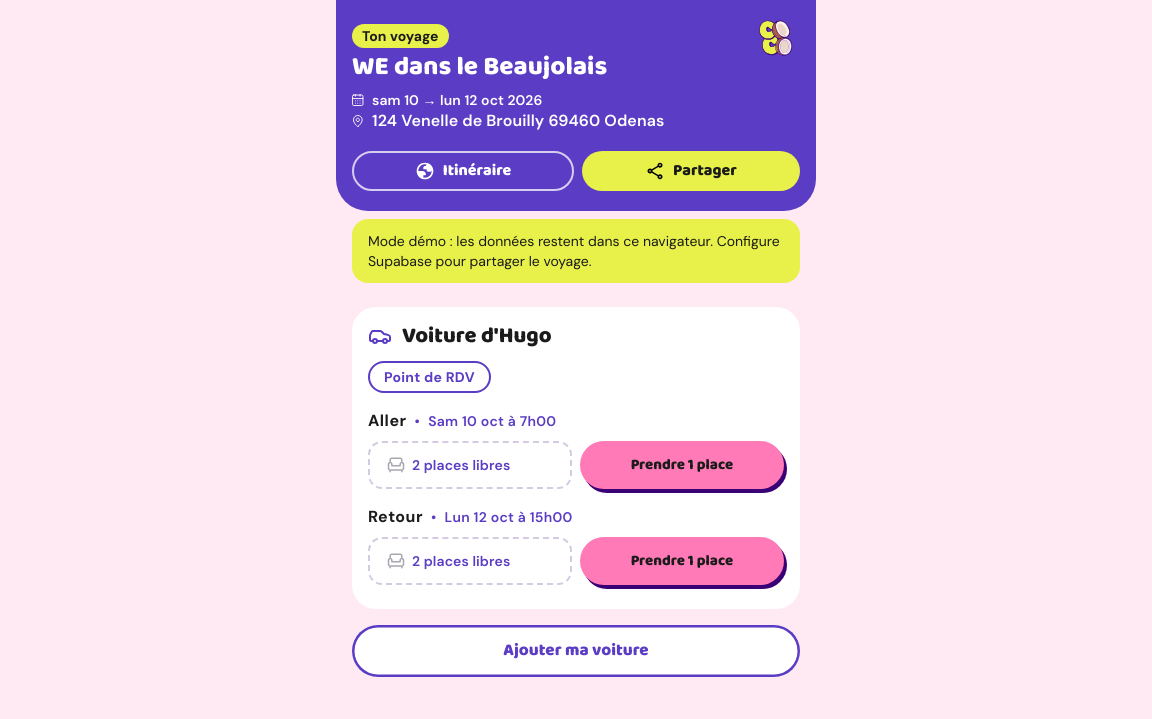
Test: Page voyage › place à l’aller puis au retour : pop-in récapitulative
// Une seule place : simple message.
Click the button "Prendre 1 place" below "Aller".
click(682, 465)  # box [580,441,784,489]
(page scrolled)
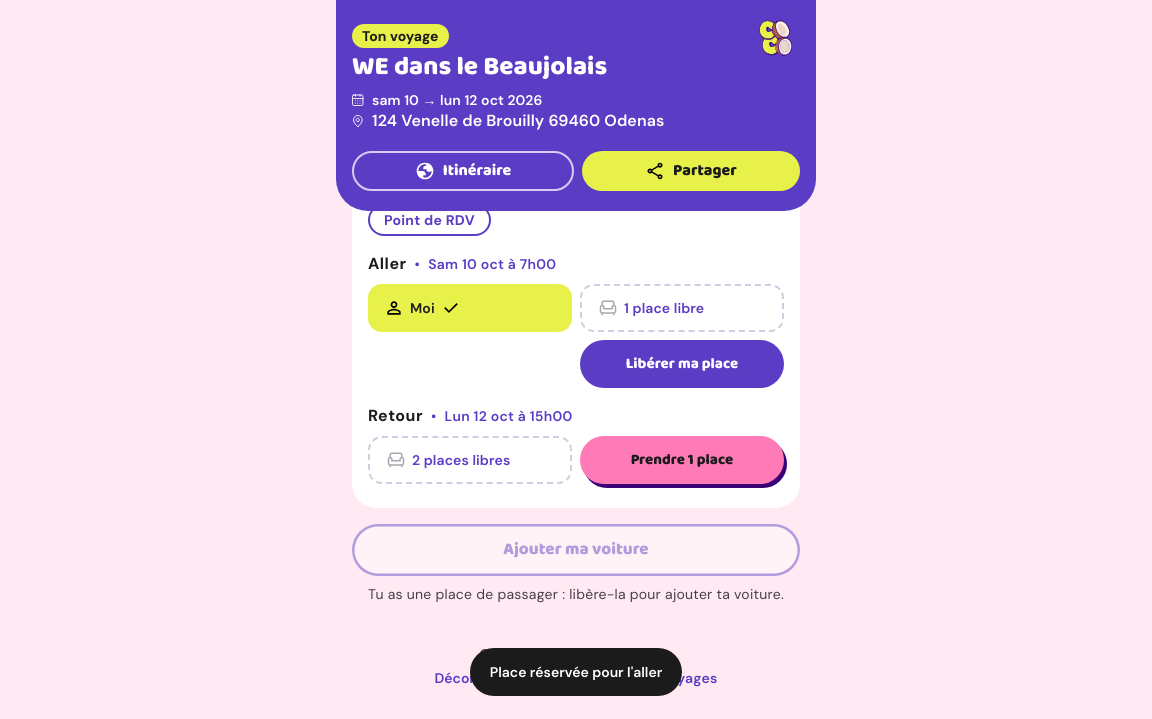
Expected: the message reads "Place réservée pour l'aller", [490,663,662,681]
// La place du retour complète : « Libérer ma place » d'abord, puis le récapitulatif.
Click the button "Prendre 1 place".
click(682, 460)  # box [580,436,784,484]
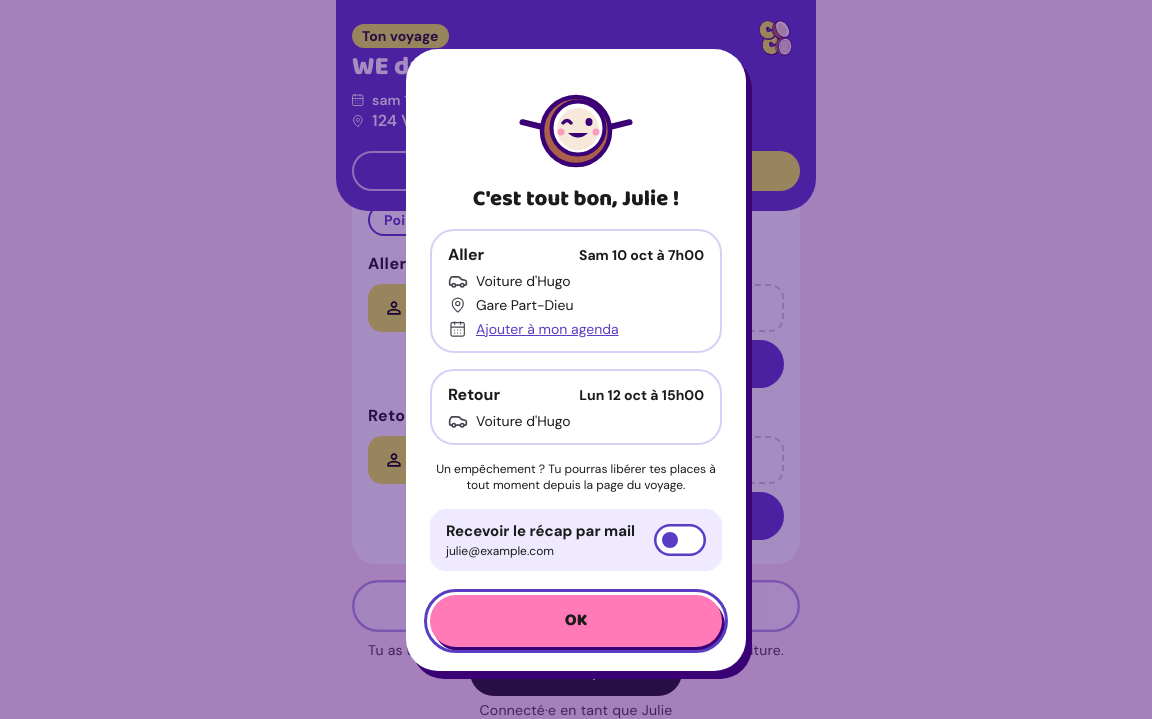
Expected: the number of buttons "Libérer ma place" is 2, [580,340,784,388]; [580,492,784,540]
Expected: the element with class "seat--pop" is shown, [368,436,572,484]
Expected: the element "Aller" shows "Voiture d'Hugo", [476,272,571,290]
Click the button "OK".
click(576, 621)  # box [430,595,722,647]
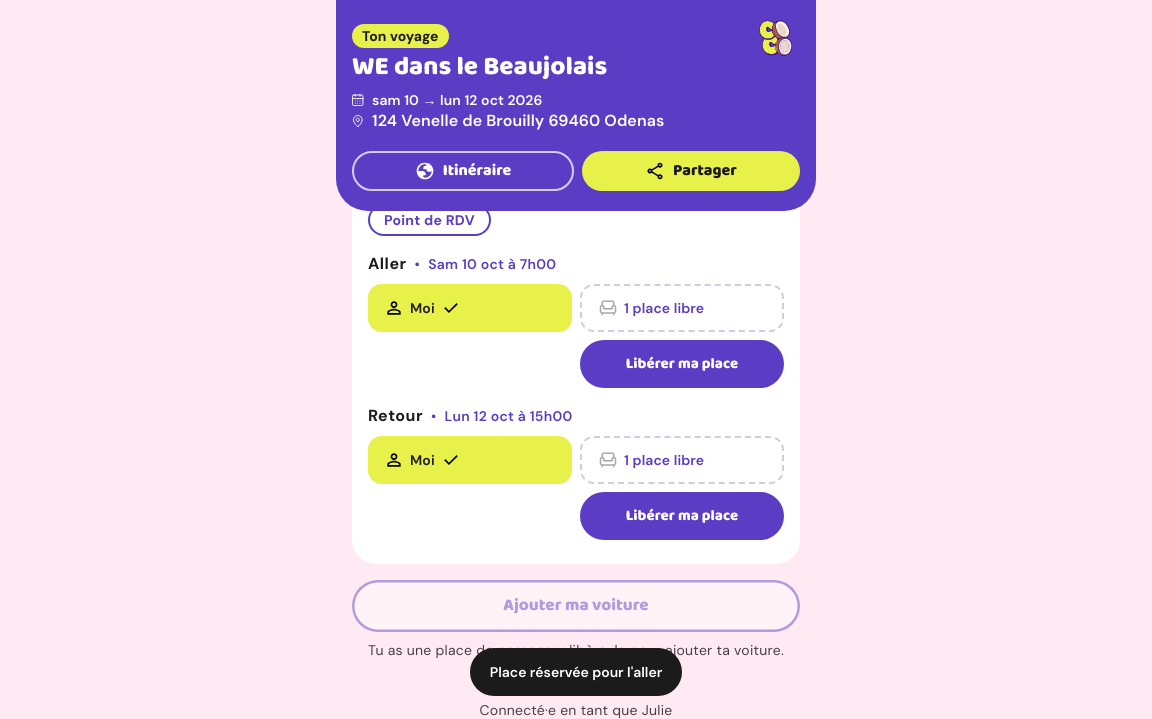
Expected: the dialog is gone
